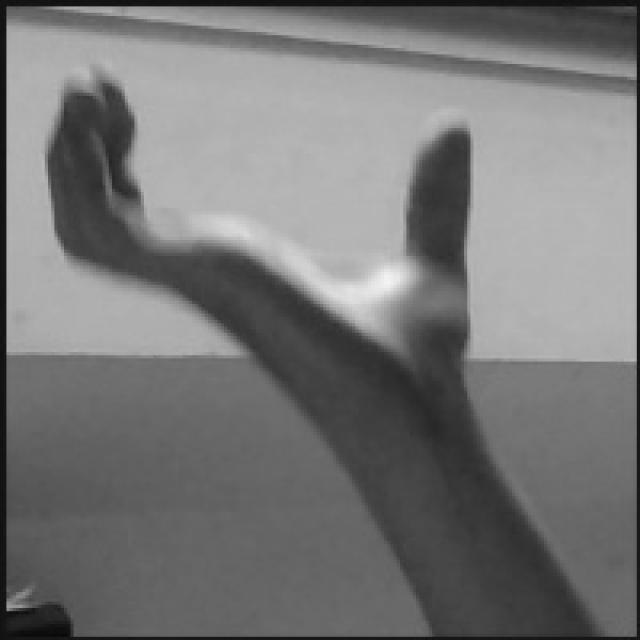space: (46, 62, 472, 380)
